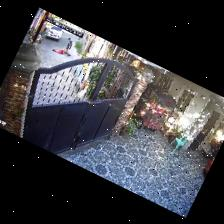person: (65, 38, 72, 56), (53, 50, 64, 55)
